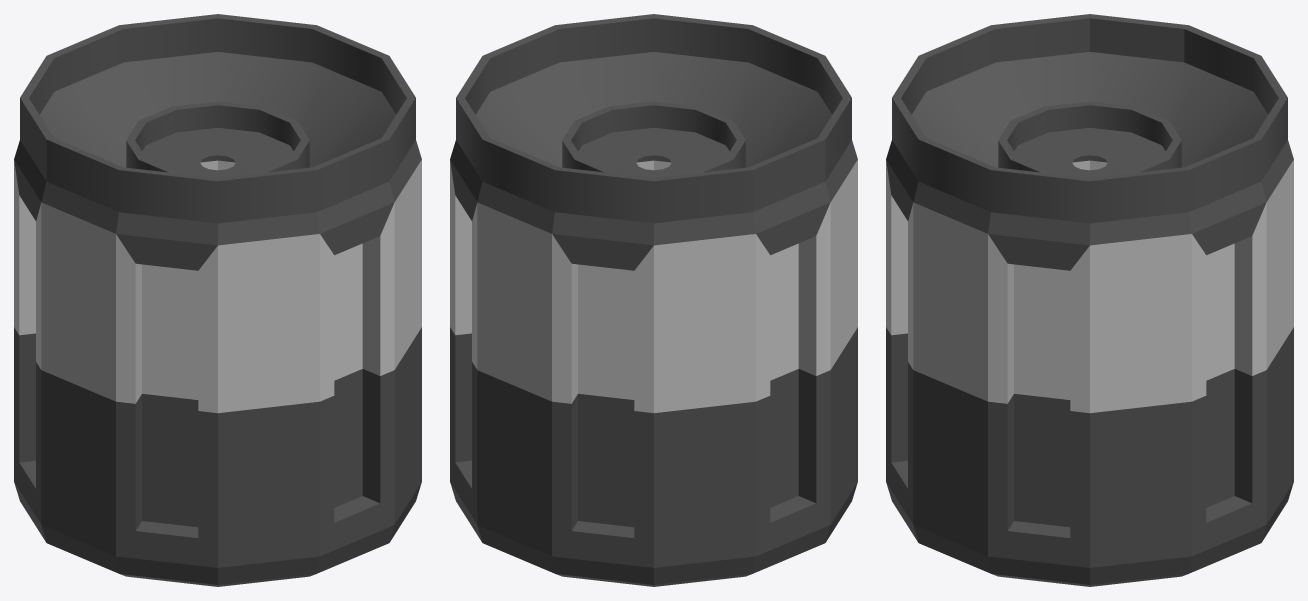
File: energy_tank_03.fbx
3 renders of one model, left to right at view 1: azimuth 30°, elevation 25°; view 2: azimuth 150°, elevation 25°; view 3: azimuth 270°, elevation 25°, orthographic.
Visible parts, largest first — view 1: energy_tank_03; view 2: energy_tank_03; view 3: energy_tank_03.
Boxes of the visible parts, left/top/right/bottom form: energy_tank_03: left=14, top=14, right=421, bottom=586; energy_tank_03: left=450, top=14, right=857, bottom=586; energy_tank_03: left=886, top=14, right=1293, bottom=586.
Size of the model in its own units: 52.56 by 58.54 by 52.56.
